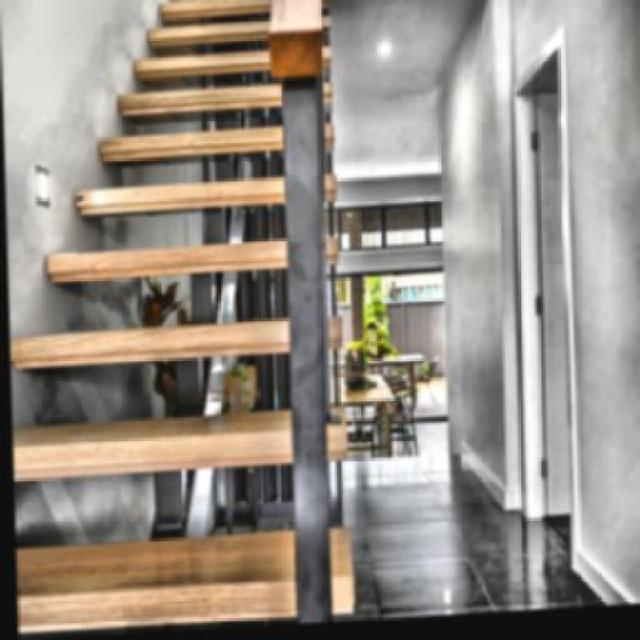stair: (9, 0, 348, 622)
